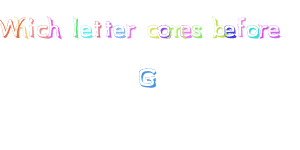G: (133, 63, 163, 91)
W: (1, 12, 20, 46)
b: (210, 15, 227, 42)
c: (143, 21, 161, 42), (36, 21, 49, 43)
e: (266, 20, 283, 43), (113, 17, 127, 44), (223, 19, 237, 42), (179, 20, 193, 42), (79, 23, 94, 41)
f: (234, 15, 248, 44)
h: (45, 7, 66, 43), (14, 13, 28, 42)
i: (27, 15, 38, 43)
l: (68, 13, 82, 43)
m: (166, 19, 184, 43)
o: (245, 21, 261, 43), (157, 20, 172, 42)
r: (255, 20, 270, 40), (124, 19, 137, 41)
s: (189, 20, 206, 41)
t: (102, 14, 113, 43), (93, 16, 104, 42)
